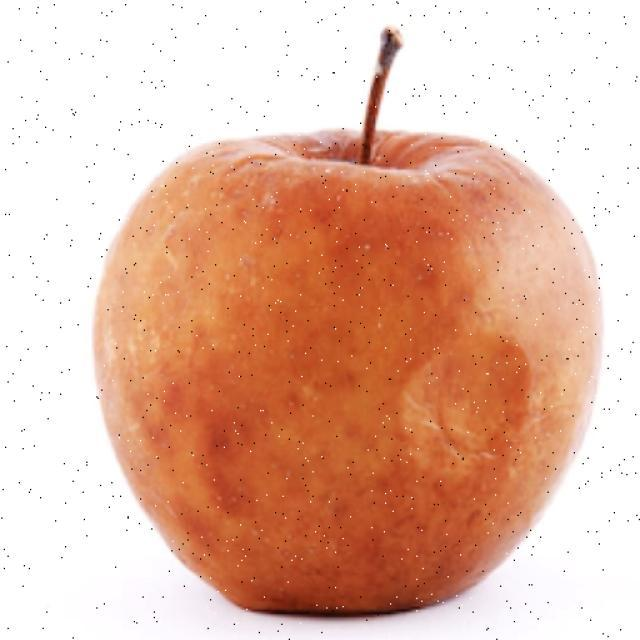Rotten: (91, 107, 586, 600)
